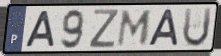9: (60, 8, 86, 50)
A: (147, 8, 180, 48), (23, 10, 57, 48)
M: (115, 9, 154, 48)
U: (181, 6, 214, 49)
Z: (87, 8, 121, 49)
